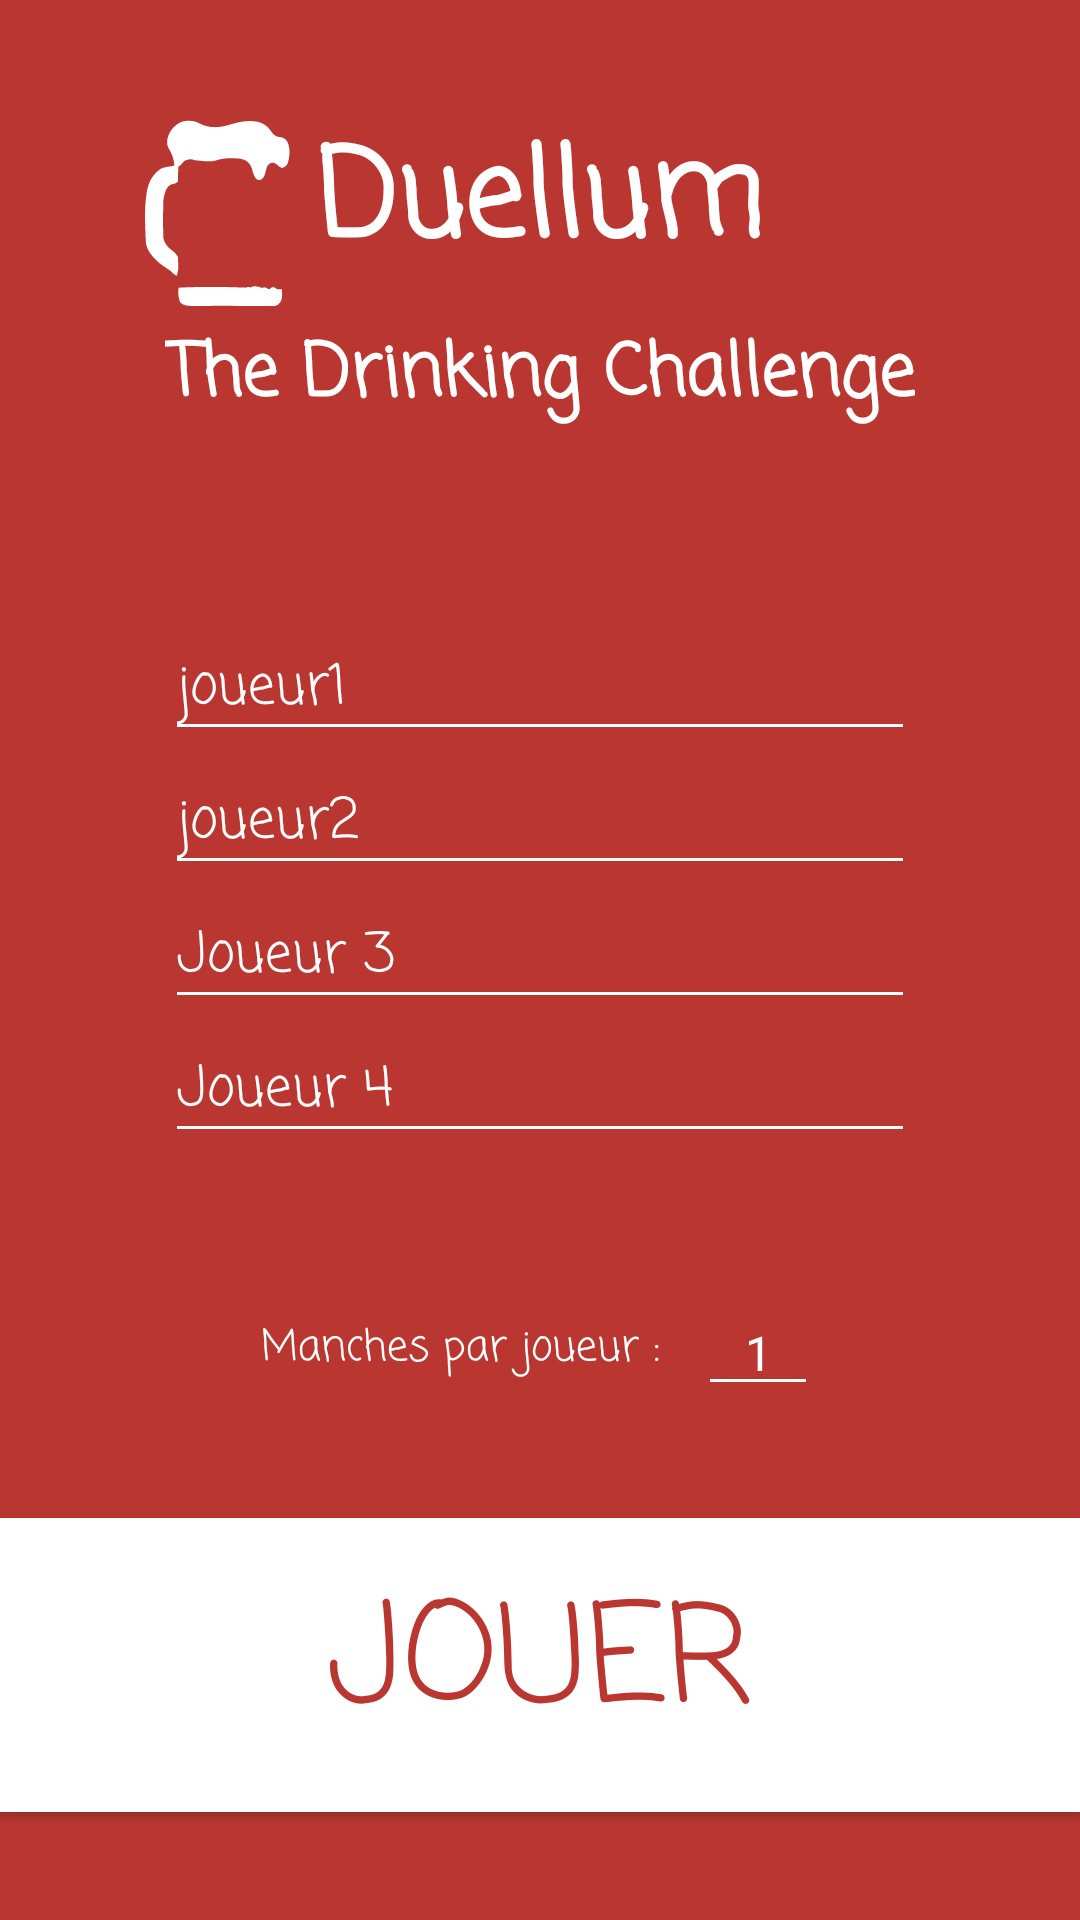

Named icons in this screenshot (1080 x 1920) and their bounding boxes, (x1, y1, x2, y2):
beer: (145, 120, 290, 306)
